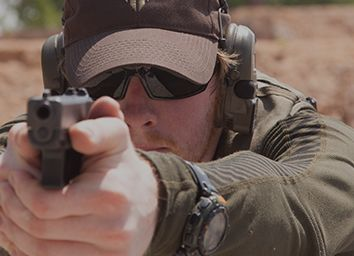gun: (25, 85, 95, 192)
